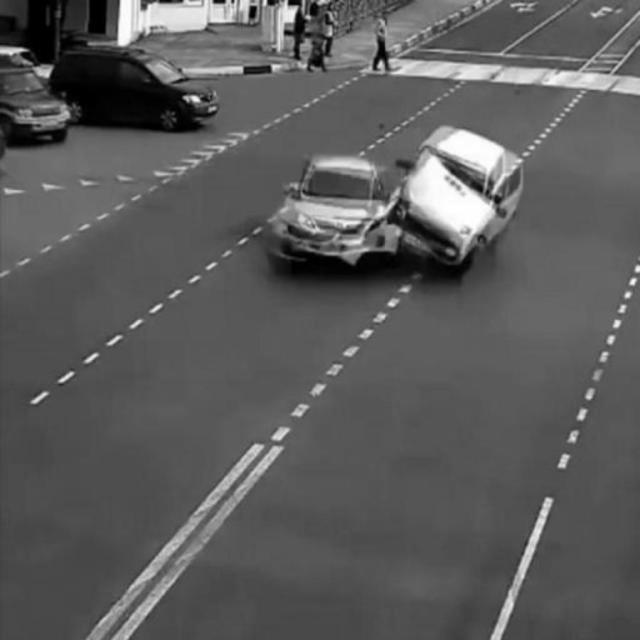accident: (267, 131, 523, 275)
person: (373, 6, 397, 76)
vehicle: (51, 44, 221, 126), (3, 59, 73, 143)
